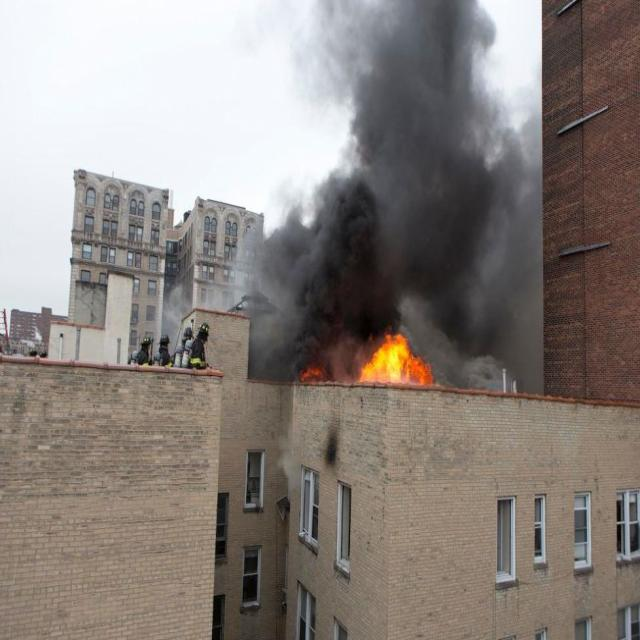fire: (343, 323, 446, 392)
